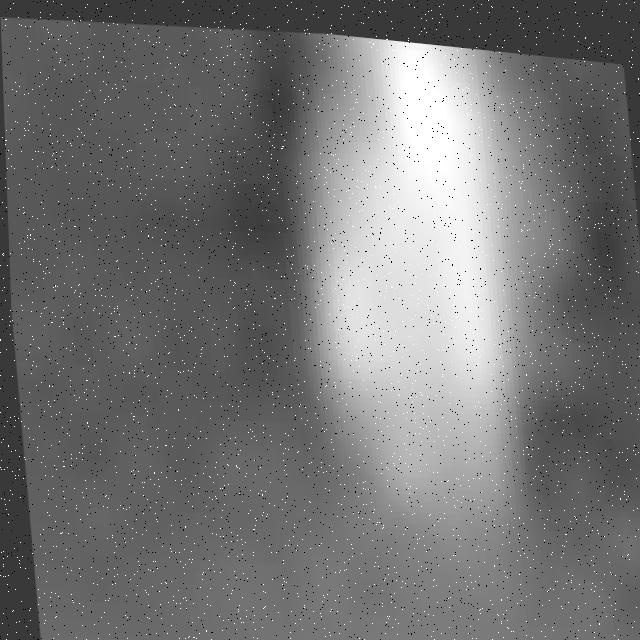person: (238, 20, 570, 582)
